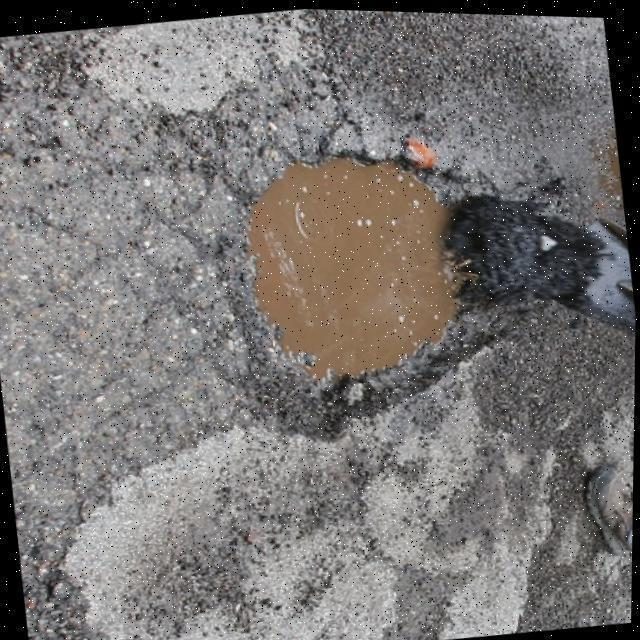Pothole: (148, 88, 548, 442), (549, 388, 554, 392)
